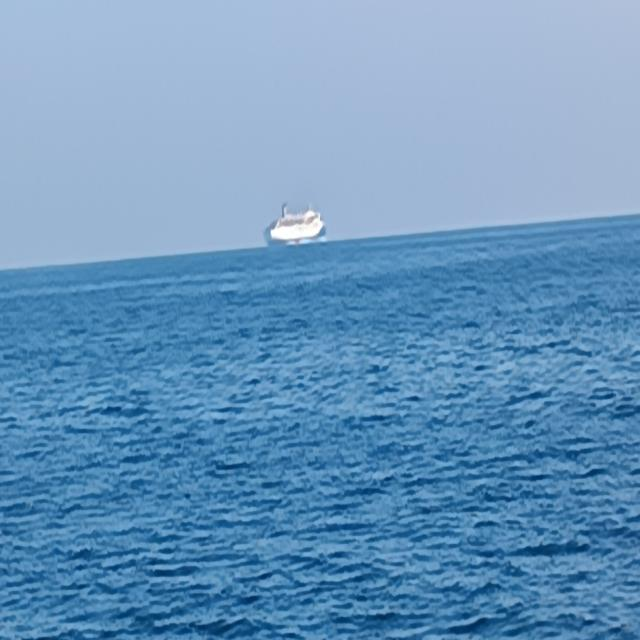PassengerShip: (230, 184, 354, 304)
